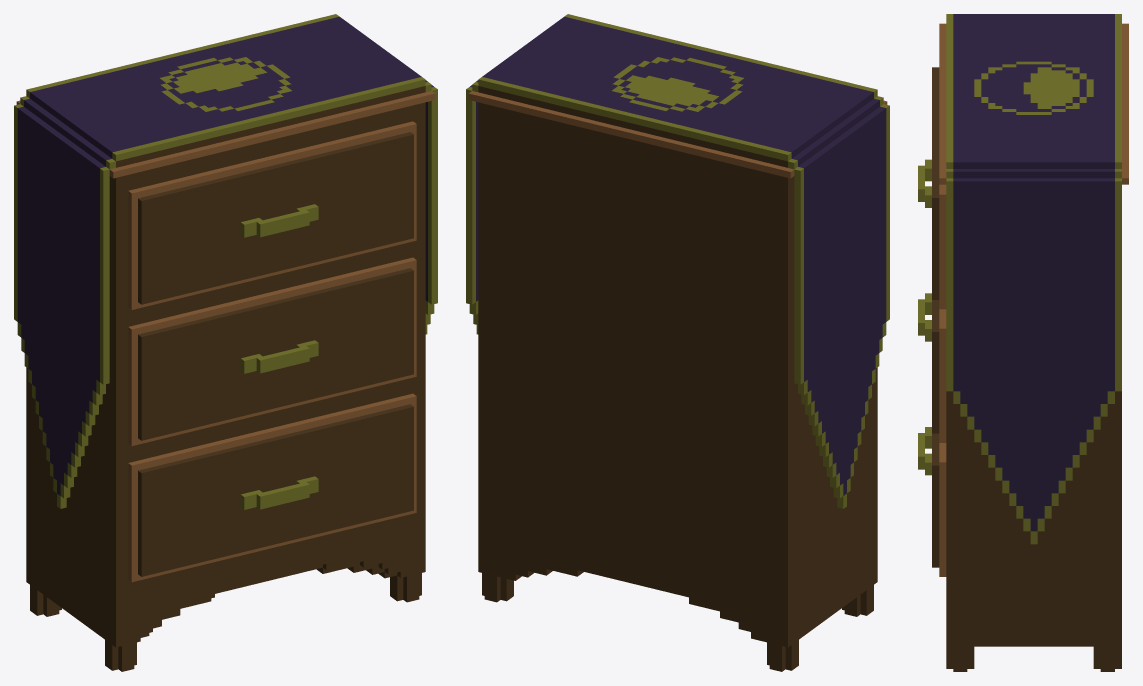
The model's file is Wizarddresser.obj.
3 renders of one model, left to right at view 1: azimuth 30°, elevation 25°; view 2: azimuth 150°, elevation 25°; view 3: azimuth 270°, elevation 25°, orthographic.
Parts seen in each view (by area): view 1: Wizarddresser; view 2: Wizarddresser; view 3: Wizarddresser.
Part boxes in pixels (x1,y1,x2,y2): Wizarddresser: (14,14,437,671); Wizarddresser: (466,14,889,671); Wizarddresser: (918,14,1128,671).
Bounding box in the file's own units: 54 × 80 × 30.
Materials: 1 (1 with a texture image).
